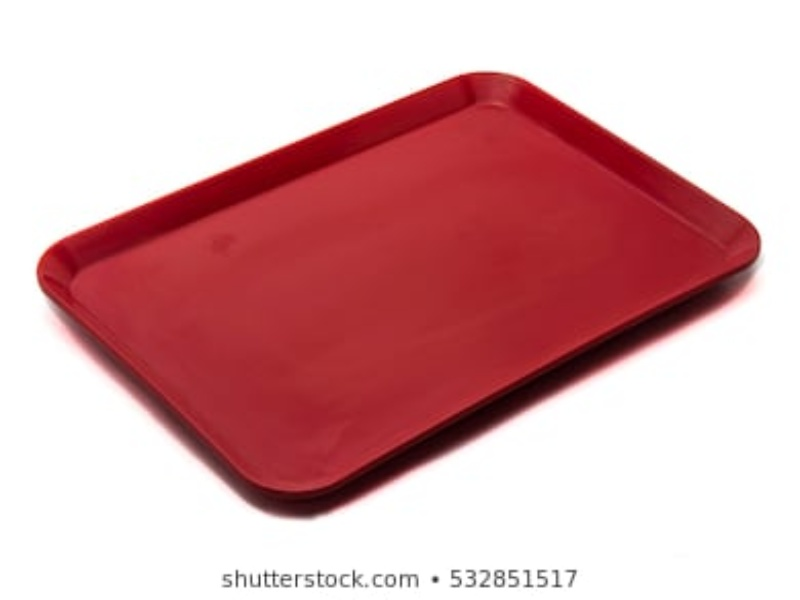plastic-tray: (34, 71, 761, 507)
